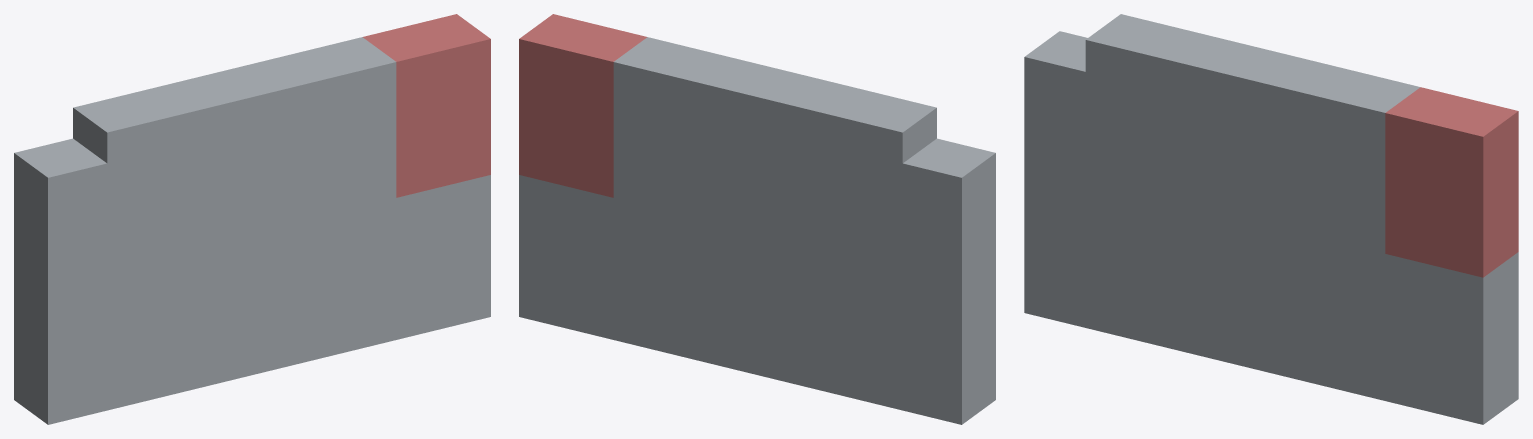
The model's file is step_03.glb.
3 views of the same model, side by side, from view 1: azimuth 30°, elevation 25°; view 2: azimuth 150°, elevation 25°; view 3: azimuth 330°, elevation 25° (orthographic). The views are drawn at different scales.
Visible parts, largest first — view 1: part__the 10 plate, removed__the 10 plate; view 2: part__the 10 plate, removed__the 10 plate; view 3: part__the 10 plate, removed__the 10 plate.
Part boxes in pixels (x1,y1,x2,y2): part__the 10 plate: [14, 37, 490, 424]; removed__the 10 plate: [363, 14, 490, 197]; part__the 10 plate: [519, 37, 995, 424]; removed__the 10 plate: [519, 14, 646, 197]; part__the 10 plate: [1024, 14, 1518, 424]; removed__the 10 plate: [1385, 87, 1518, 277].
Bounding box in the file's own units: 75 × 45 × 10.
